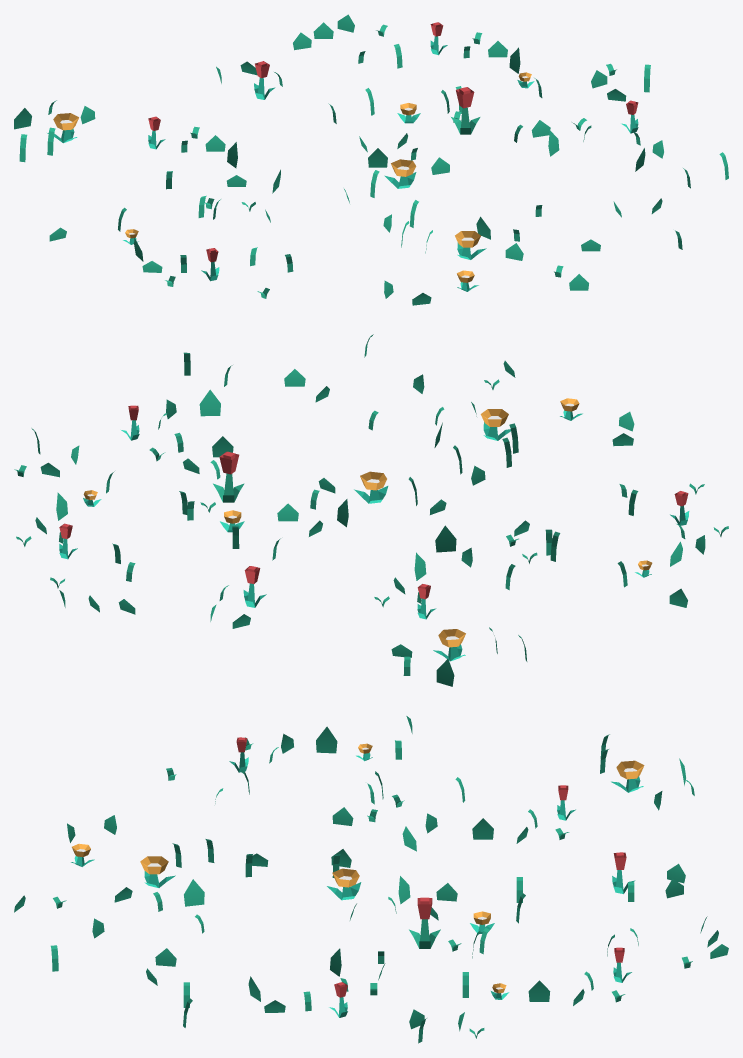
Rendered from flowergrass01.fbx.
3 views of the same model, one above another, from view 1: azimuth 30°, elevation 25°; view 2: azimuth 150°, elevation 25°; view 3: azimuth 270°, elevation 25° (orthographic). The views are drawn at different scales.
Parts seen in each view (by area): view 1: Object049; view 2: Object049; view 3: Object049.
Boxes of the visible parts, bbox=[...] form: Object049: bbox=[14, 14, 728, 305]; Object049: bbox=[14, 334, 728, 686]; Object049: bbox=[14, 716, 728, 1043].
Size of the model in its own units: 159 by 12.06 by 150.
